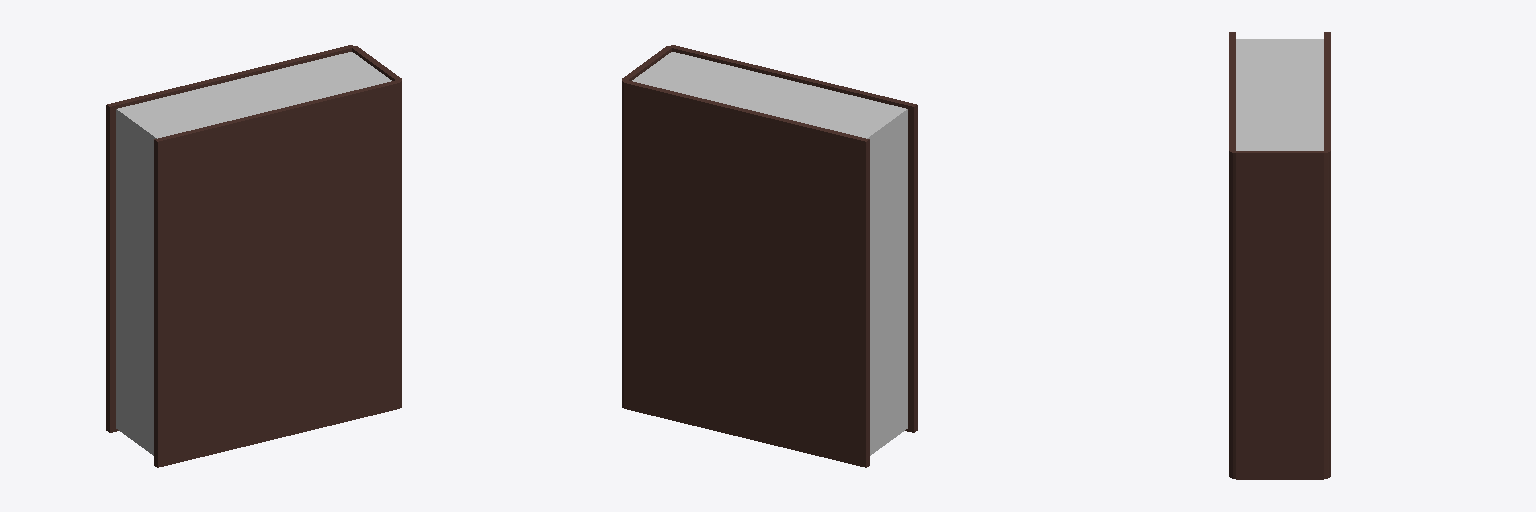
The picture shows the model from 3 angles: view 1: azimuth 30°, elevation 25°; view 2: azimuth 150°, elevation 25°; view 3: azimuth 270°, elevation 25°; orthographic projection.
Visible parts, largest first — view 1: Cube, Cube.001; view 2: Cube, Cube.001; view 3: Cube, Cube.001.
Boxes of the visible parts, <box> form: Cube: <box>106,45,401,467</box>; Cube.001: <box>116,52,391,455</box>; Cube: <box>622,45,917,467</box>; Cube.001: <box>632,52,907,455</box>; Cube: <box>1229,32,1330,479</box>; Cube.001: <box>1236,39,1323,150</box>.
Size of the model in its own units: 1.1 by 1.39 by 0.3935.
2 materials, 1 textured.